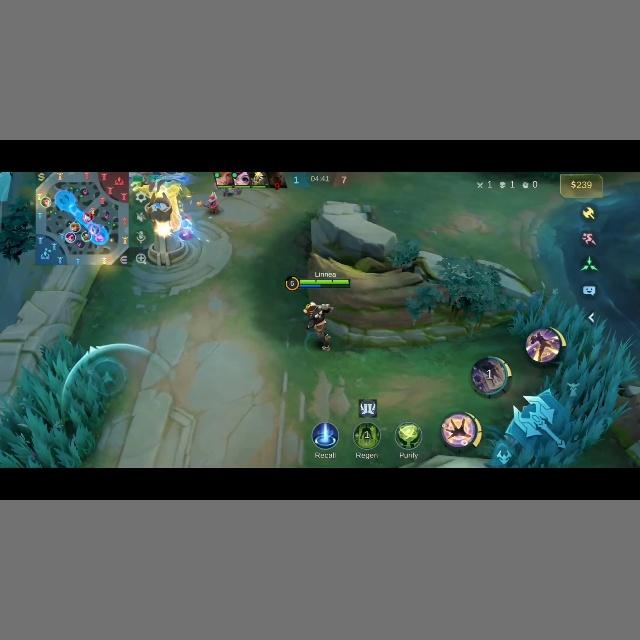hero_self: (302, 300, 333, 350)
hp_self: (298, 278, 349, 286)
minion_enemy: (197, 190, 221, 214), (178, 217, 193, 243), (179, 217, 193, 238)
turret_ally: (143, 168, 188, 264)
